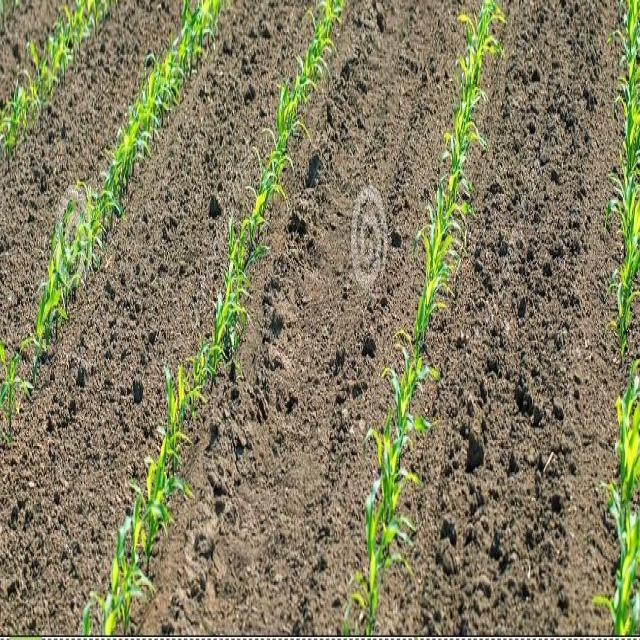row: (126, 0, 475, 640), (0, 0, 320, 637), (389, 3, 624, 639), (0, 2, 78, 111)
